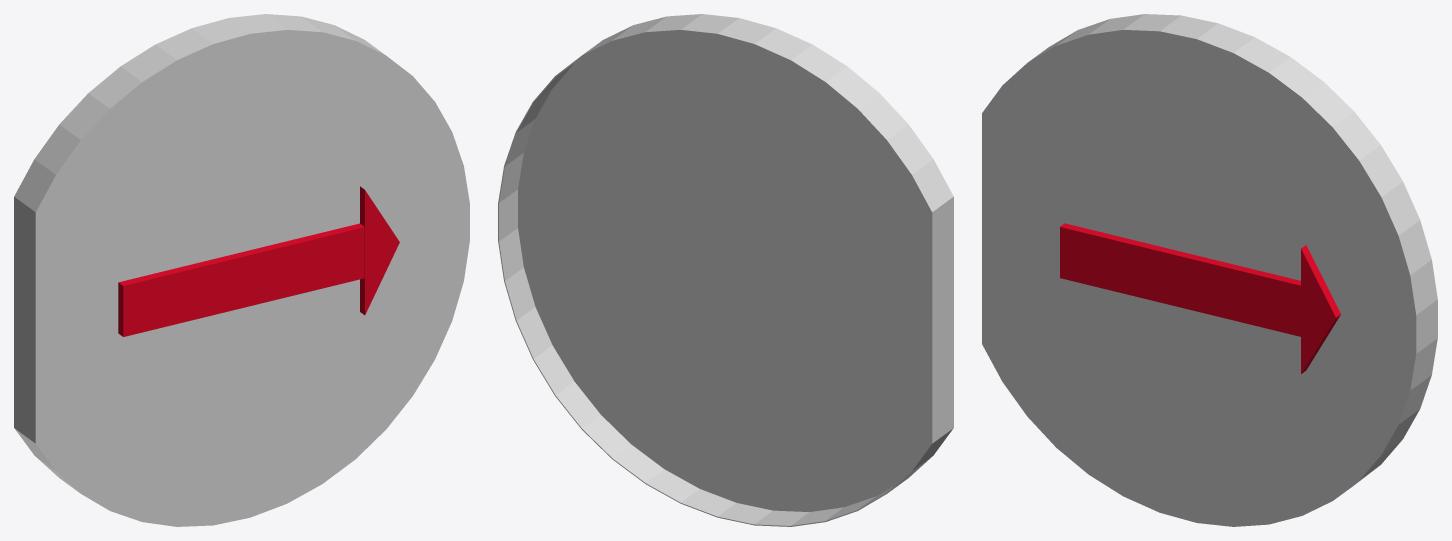
File: rb1_elevator_platform.dae
3 views of the same model, side by side, from view 1: azimuth 30°, elevation 25°; view 2: azimuth 150°, elevation 25°; view 3: azimuth 330°, elevation 25° (orthographic).
Visible parts, largest first — view 1: node, node.001; view 2: node; view 3: node, node.001.
Part boxes in pixels (box(x1,y1,x2,y2)): node: box(14, 14, 469, 526); node.001: box(118, 186, 399, 336); node: box(498, 14, 953, 526); node: box(982, 14, 1437, 526); node.001: box(1060, 223, 1340, 373).
Bounding box in the file's own units: 0.4632 × 0.0495 × 0.4934.
